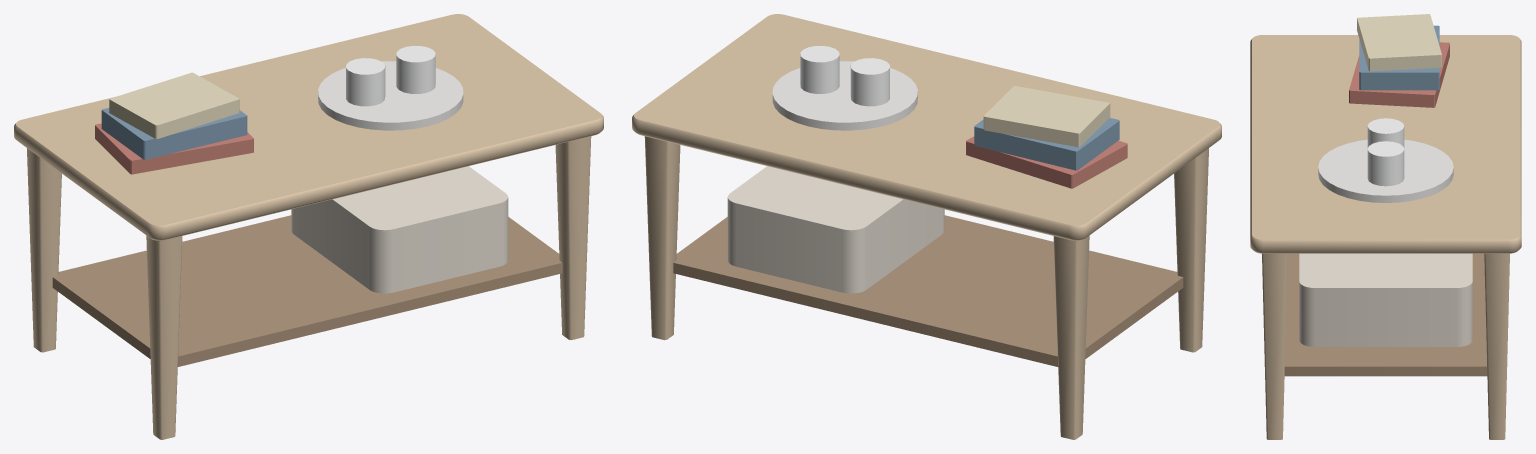
The picture shows the model from 3 angles, left to right: view 1: azimuth 30°, elevation 25°; view 2: azimuth 150°, elevation 25°; view 3: azimuth 270°, elevation 25°; orthographic projection. The views are drawn at different scales.
Parts seen in each view (by area): view 1: Bàn trà Dài=900; Rộng=500; view 2: Bàn trà Dài=900; Rộng=500; view 3: Bàn trà Dài=900; Rộng=500.
Part boxes in pixels (box(x1,y1,x2,y2)): Bàn trà Dài=900; Rộng=500: box(14, 14, 603, 439); Bàn trà Dài=900; Rộng=500: box(632, 14, 1221, 439); Bàn trà Dài=900; Rộng=500: box(1250, 14, 1521, 439).
Size of the model in its own units: 0.9 by 0.508 by 0.5.
